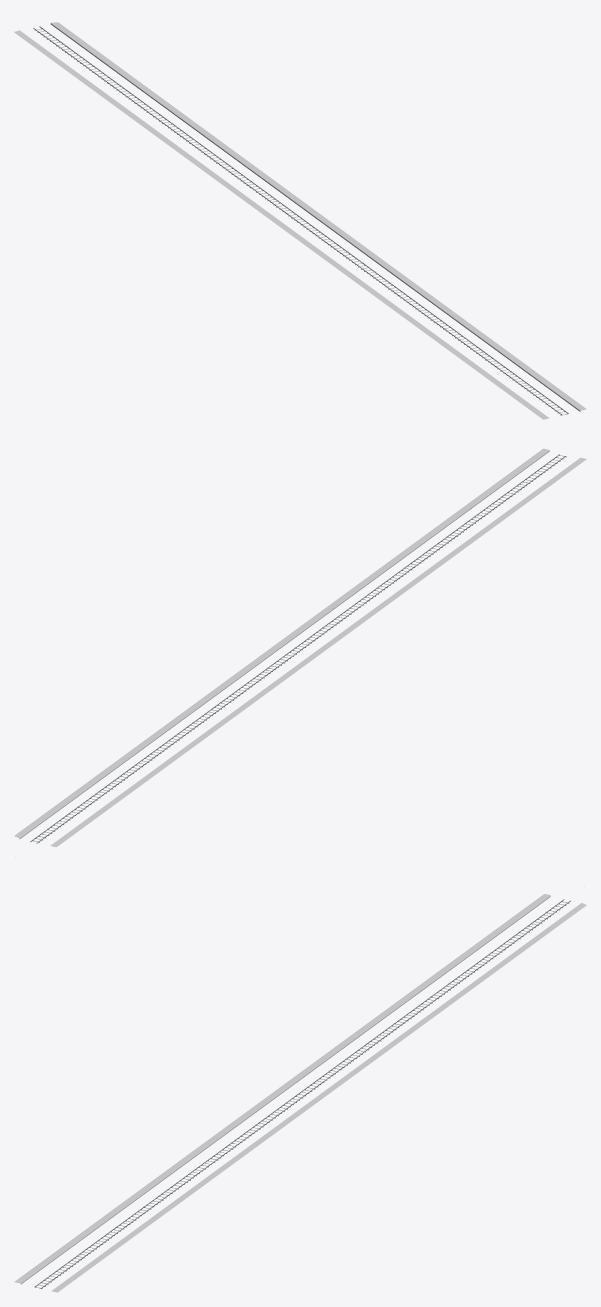
The picture shows the model from 3 angles, top to bottom: view 1: azimuth 30°, elevation 25°; view 2: azimuth 150°, elevation 25°; view 3: azimuth 330°, elevation 25°; orthographic projection.
Visible parts, largest first — view 1: 边道, 轨道, 轨枕, 轨道底座; view 2: 边道, 轨道, 轨枕, 轨道底座; view 3: 边道, 轨道, 轨枕, 轨道底座.
Boxes of the visible parts, x1=… form: 边道: x1=14, y1=22, x2=586, y2=419; 轨道: x1=33, y1=26, x2=568, y2=414; 轨枕: x1=37, y1=28, x2=566, y2=414; 轨道底座: x1=34, y1=28, x2=568, y2=415; 边道: x1=14, y1=448, x2=586, y2=847; 轨道: x1=30, y1=454, x2=565, y2=843; 轨枕: x1=34, y1=455, x2=564, y2=841; 轨道底座: x1=32, y1=455, x2=566, y2=842; 边道: x1=14, y1=894, x2=586, y2=1292; 轨道: x1=35, y1=899, x2=570, y2=1288; 轨枕: x1=36, y1=901, x2=566, y2=1288; 轨道底座: x1=34, y1=901, x2=569, y2=1288.
Bounding box in the file's own units: 29.67 × 1.03 × 647.
Materials: 2 (1 with a texture image).
